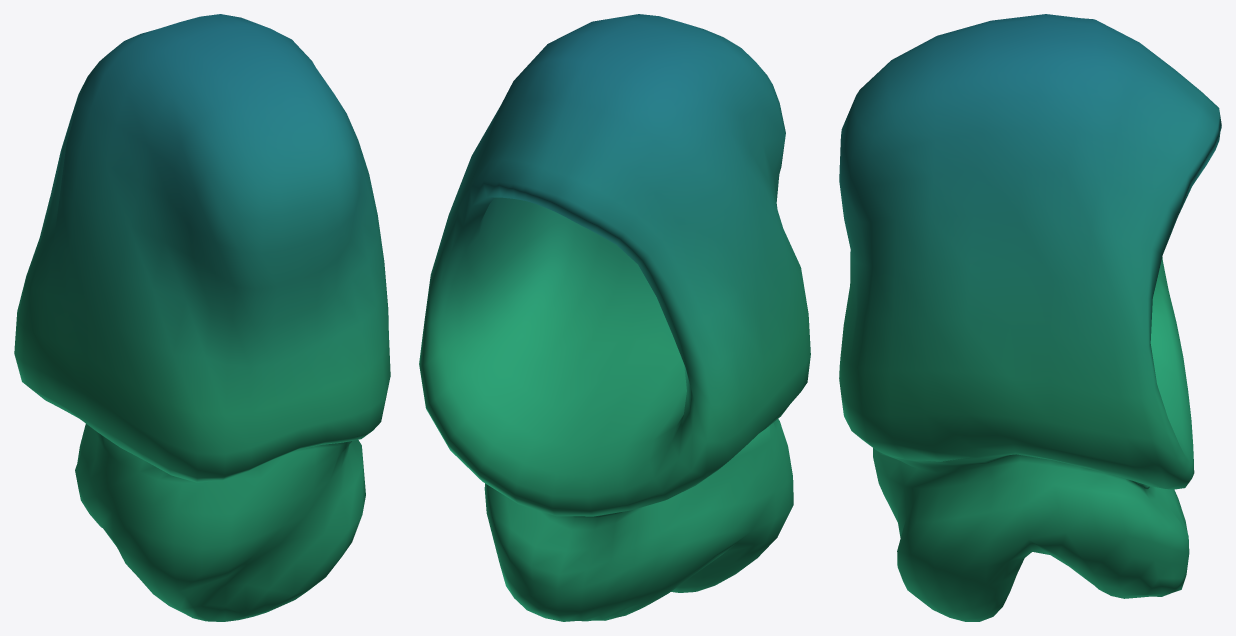
File: CAPUCHE.fbx
The picture shows the model from 3 angles, left to right: view 1: azimuth 30°, elevation 25°; view 2: azimuth 150°, elevation 25°; view 3: azimuth 270°, elevation 25°; orthographic projection. The views are drawn at different scales.
Parts seen in each view (by area): view 1: CAPUCHE; view 2: CAPUCHE; view 3: CAPUCHE.
Part boxes in pixels (x1,y1,x2,y2): CAPUCHE: (14,14,390,621); CAPUCHE: (419,14,810,621); CAPUCHE: (839,14,1221,621).
Size of the model in its own units: 86.84 by 152 by 89.87.
